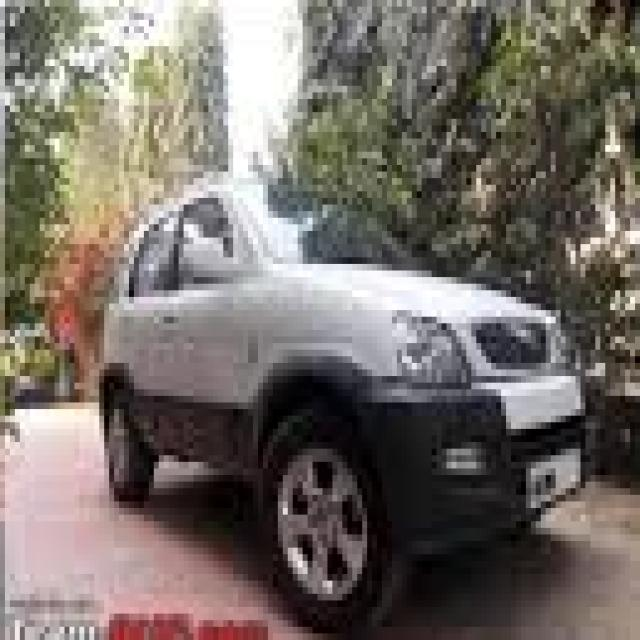car: (64, 168, 596, 617)
